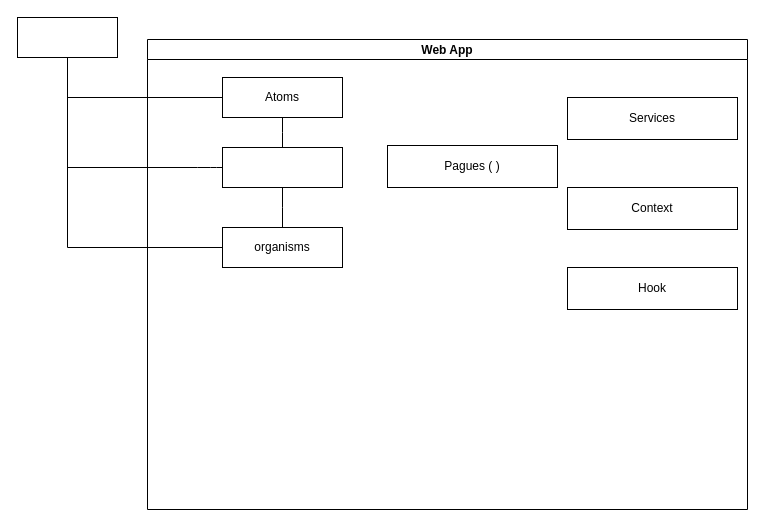
This 765x527 diagram has some shape labels left out. Each missing label, with the centre of its shape:
Desing System: (x=67, y=37)
Molecules: (x=282, y=167)
